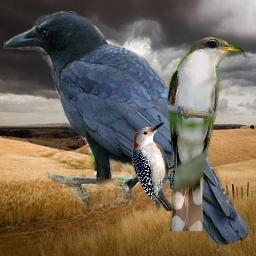Crow: (3, 11, 252, 253)
Cuckoo: (166, 35, 245, 231)
Woodpecker: (132, 122, 175, 211)
